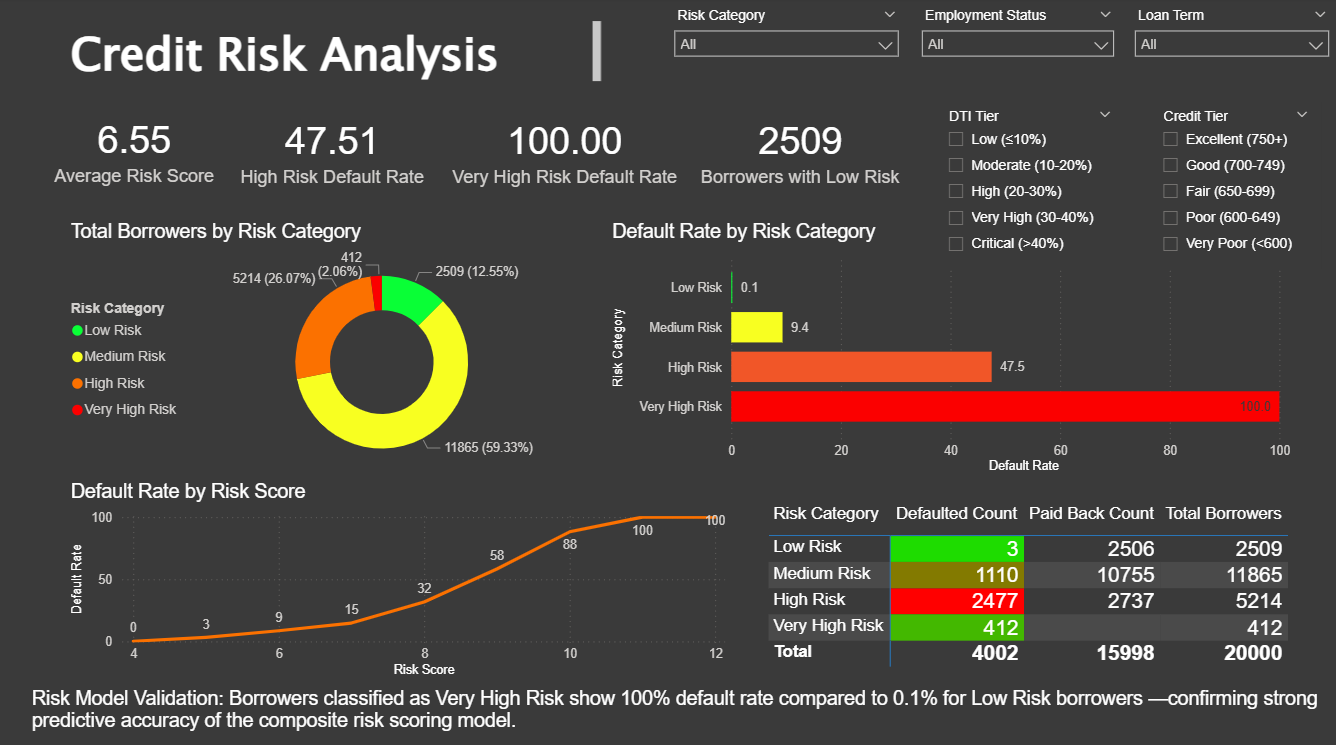

This screenshot's page, from the dashboard's own definition file:
{"tool":"powerbi","page":{"name":"Risk Analysis","canvas":[1280,720],"ordinal":1},"visuals":[{"type":"slicer","fields":{"Values":["public applicants.employment_status"]},"box":[871.7,6.4,203.6,76.3],"z":0},{"type":"slicer","fields":{"Values":["public loan_applications.loan_term"]},"box":[1075.3,6.4,205.2,76.3],"z":1000},{"type":"slicer","fields":{"Values":["public loan_applications.Risk Category"]},"box":[636.2,6.4,233.8,74.8],"z":2000},{"type":"textbox","box":[65,8.3,535,75],"z":3000},{"type":"donutChart","fields":{"Y":["_Measures.Total Borrowers"],"Category":["public loan_applications.Risk Category"]},"box":[65,215,493.3,248.3],"z":4000},{"type":"clusteredBarChart","fields":{"Y":["_Measures.Default Rate"],"Category":["public loan_applications.Risk Category"]},"box":[581.7,215,693.3,245],"z":5000},{"type":"pivotTable","fields":{"Values":["_Measures.Defaulted Count","_Measures.Paid Back Count","_Measures.Total Borrowers"],"Rows":["public loan_applications.Risk Category"]},"box":[730,478.3,510,176.7],"z":6000},{"type":"lineChart","fields":{"Y":["_Measures.Default Rate"],"Category":["public loan_applications.Risk Score"]},"box":[65,463.3,635,191.7],"z":7000},{"type":"card","fields":{"Values":["_Measures.Average Risk Score"]},"box":[26.7,90,205,110],"z":8000},{"type":"card","fields":{"Values":["_Measures.High Risk Default Rate"]},"box":[216.7,91.7,205,110],"z":9000},{"type":"card","fields":{"Values":["_Measures.Very High Risk Default Rate"]},"box":[418.3,91.7,245,110],"z":10000},{"type":"card","fields":{"Values":["_Measures.Low Risk Count"]},"box":[663.3,91.7,205,110],"z":11000},{"type":"slicer","fields":{"Values":["public financial_profile.Credit Tier"]},"box":[1100,101.7,163.3,158.3],"z":12000},{"type":"slicer","fields":{"Values":["public financial_profile.DTI Tier"]},"box":[895,101.7,180,158.3],"z":13000},{"type":"textbox","box":[26.7,655,1248.3,65],"z":14000}]}

Visuals, with their boxes in screenshot pixels (x1, y1, x2, y2), scaled from the page's 1280x720 canvas onto the 1336x745 screenshot:
slicer - public applicants.employment_status: crop(910, 7, 1122, 86)
slicer - public loan_applications.loan_term: crop(1122, 7, 1335, 86)
slicer - public loan_applications.Risk Category: crop(664, 7, 908, 84)
textbox: crop(68, 9, 626, 86)
donutChart - _Measures.Total Borrowers x public loan_applications.Risk Category: crop(68, 222, 583, 479)
clusteredBarChart - _Measures.Default Rate x public loan_applications.Risk Category: crop(607, 222, 1331, 476)
pivotTable - _Measures.Defaulted Count x _Measures.Paid Back Count: crop(762, 495, 1294, 678)
lineChart - _Measures.Default Rate x public loan_applications.Risk Score: crop(68, 479, 731, 678)
card - _Measures.Average Risk Score: crop(28, 93, 242, 207)
card - _Measures.High Risk Default Rate: crop(226, 95, 440, 209)
card - _Measures.Very High Risk Default Rate: crop(437, 95, 692, 209)
card - _Measures.Low Risk Count: crop(692, 95, 906, 209)
slicer - public financial_profile.Credit Tier: crop(1148, 105, 1319, 269)
slicer - public financial_profile.DTI Tier: crop(934, 105, 1122, 269)
textbox: crop(28, 678, 1331, 744)
